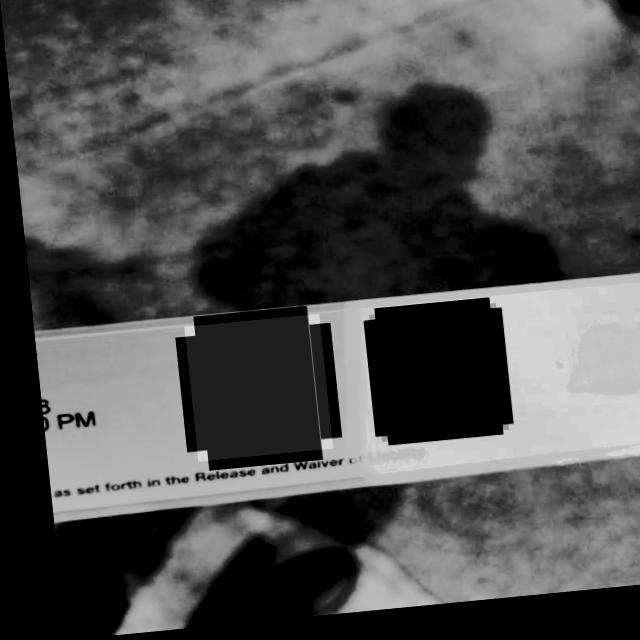qr_code: (177, 319, 323, 465), (361, 312, 499, 449)
